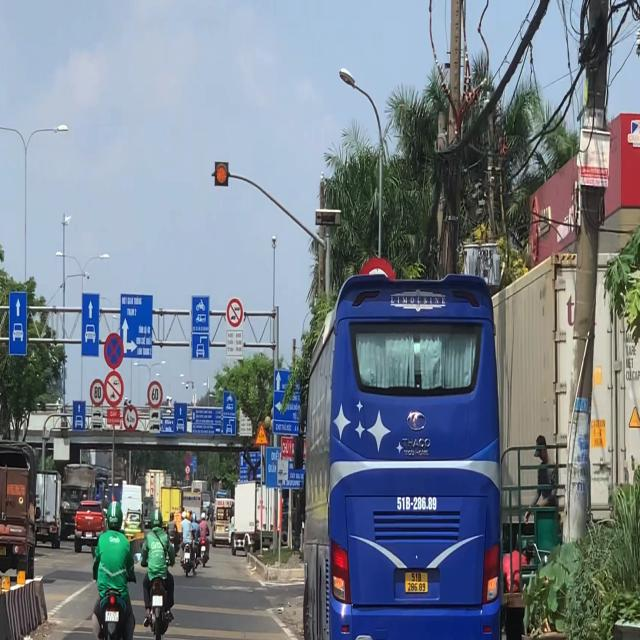Cam dung va do: (104, 332, 124, 370), (185, 455, 190, 465)
Chieu cao toi da: (123, 404, 138, 433)
Nguy hiem: (254, 422, 269, 446)
Toc do toi da: (147, 380, 163, 409), (90, 378, 105, 407)
